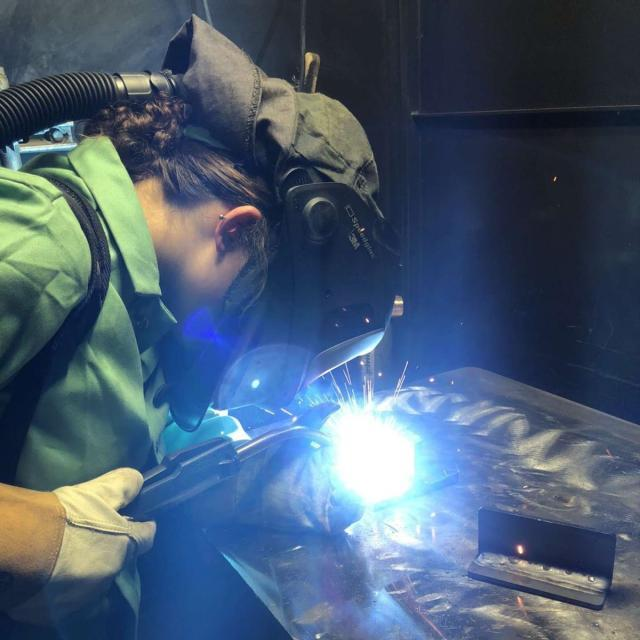with_helmet: (170, 188, 412, 438)
